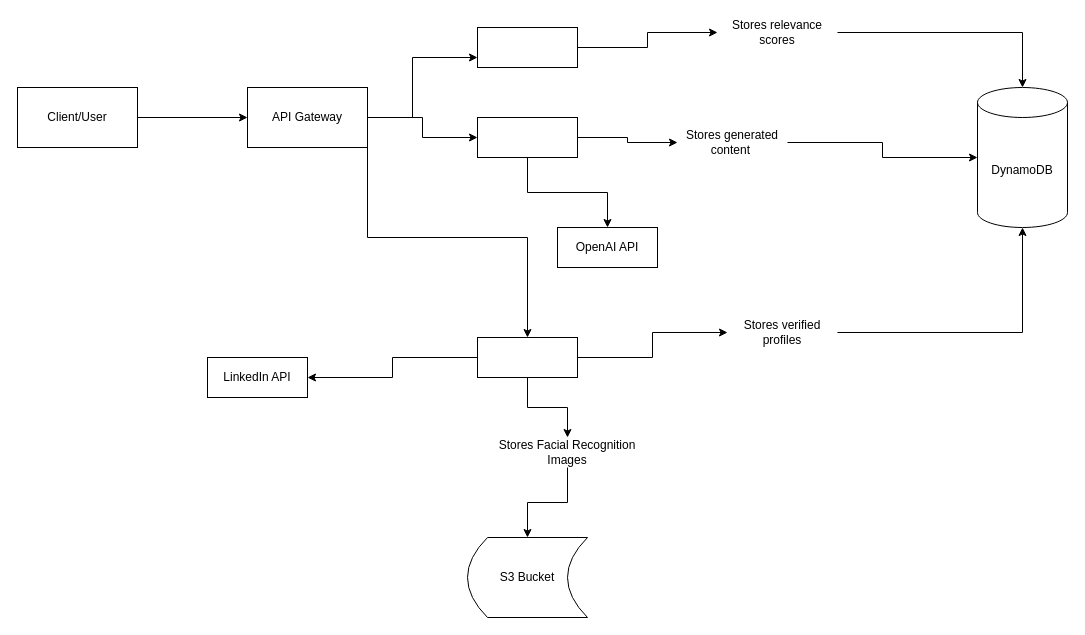
Some shapes in this 1085 by 635 pixel diagram are drawn without their labels. Here are the shapes that lost their labels. From the top down, the centre of each, then its label:
At point (527, 47): "Listener.Score".
At point (527, 137): "Content.Prompter".
At point (527, 357): "People.Verifier".
